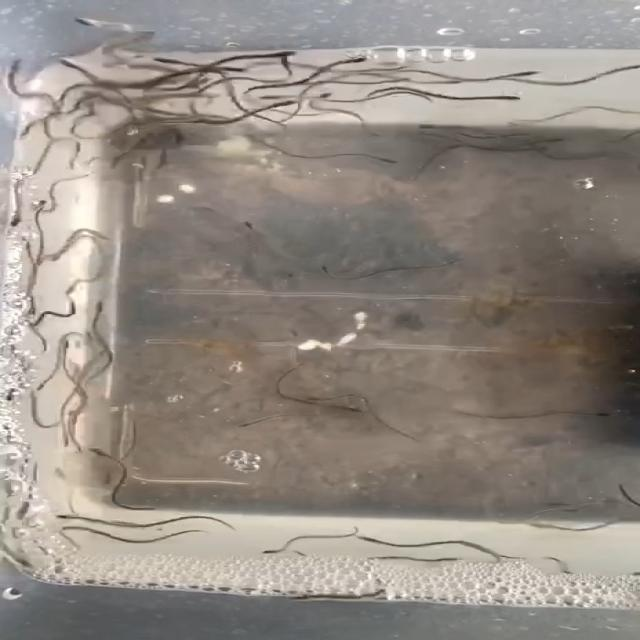inactive_glass_eel: (247, 43, 306, 58), (50, 56, 99, 73), (333, 49, 375, 68), (64, 17, 116, 32), (492, 66, 550, 77), (478, 95, 538, 105), (316, 260, 346, 280), (227, 416, 264, 432), (290, 595, 337, 606), (84, 448, 123, 461), (88, 298, 113, 318), (260, 91, 304, 102), (146, 53, 180, 67), (209, 63, 256, 73), (29, 195, 50, 215), (5, 379, 25, 400), (353, 534, 388, 546), (7, 210, 26, 232), (413, 122, 449, 133), (576, 408, 615, 418), (5, 556, 34, 569), (273, 97, 303, 109), (376, 155, 411, 165), (29, 380, 54, 393), (260, 546, 287, 558), (49, 514, 89, 522), (236, 219, 257, 234), (522, 143, 547, 155), (300, 394, 334, 402), (337, 405, 364, 414), (59, 342, 77, 355)
